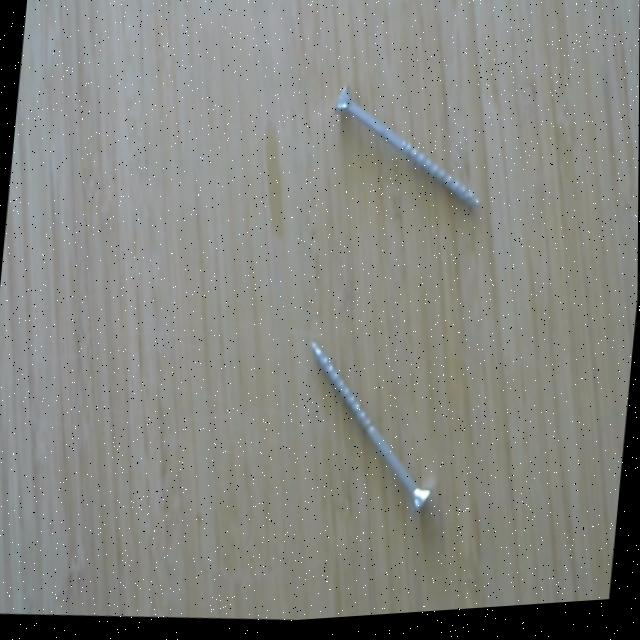Long screw: (302, 331, 442, 529), (327, 78, 492, 235)
